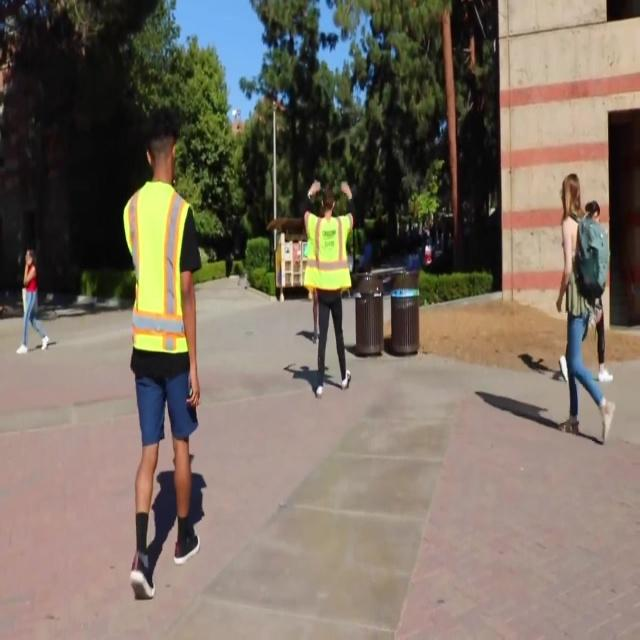vest: (121, 243, 192, 468), (303, 278, 354, 390)
